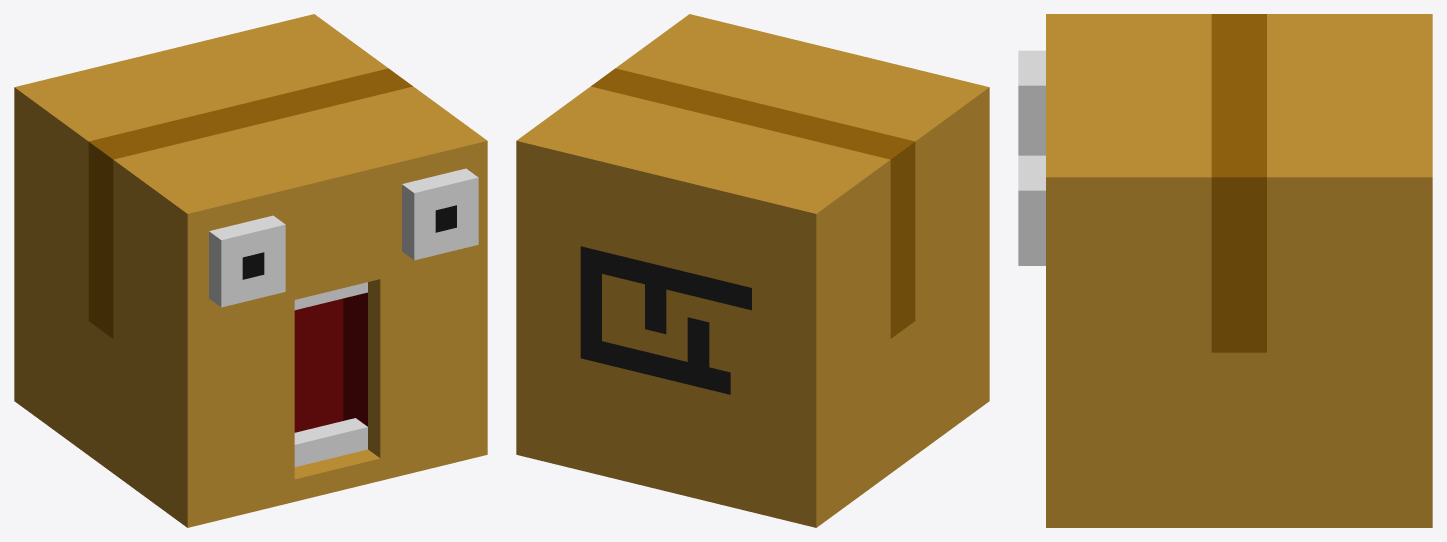
File: bomb1.obj
3 renders of one model, left to right at view 1: azimuth 30°, elevation 25°; view 2: azimuth 150°, elevation 25°; view 3: azimuth 270°, elevation 25°, orthographic. The views are drawn at different scales.
Size of the model in its own units: 14 by 14 by 15.
1 material, 1 textured.
